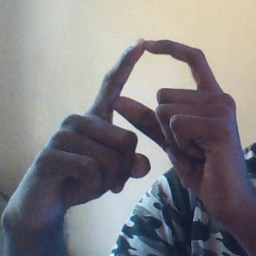D: (71, 31, 221, 165)
